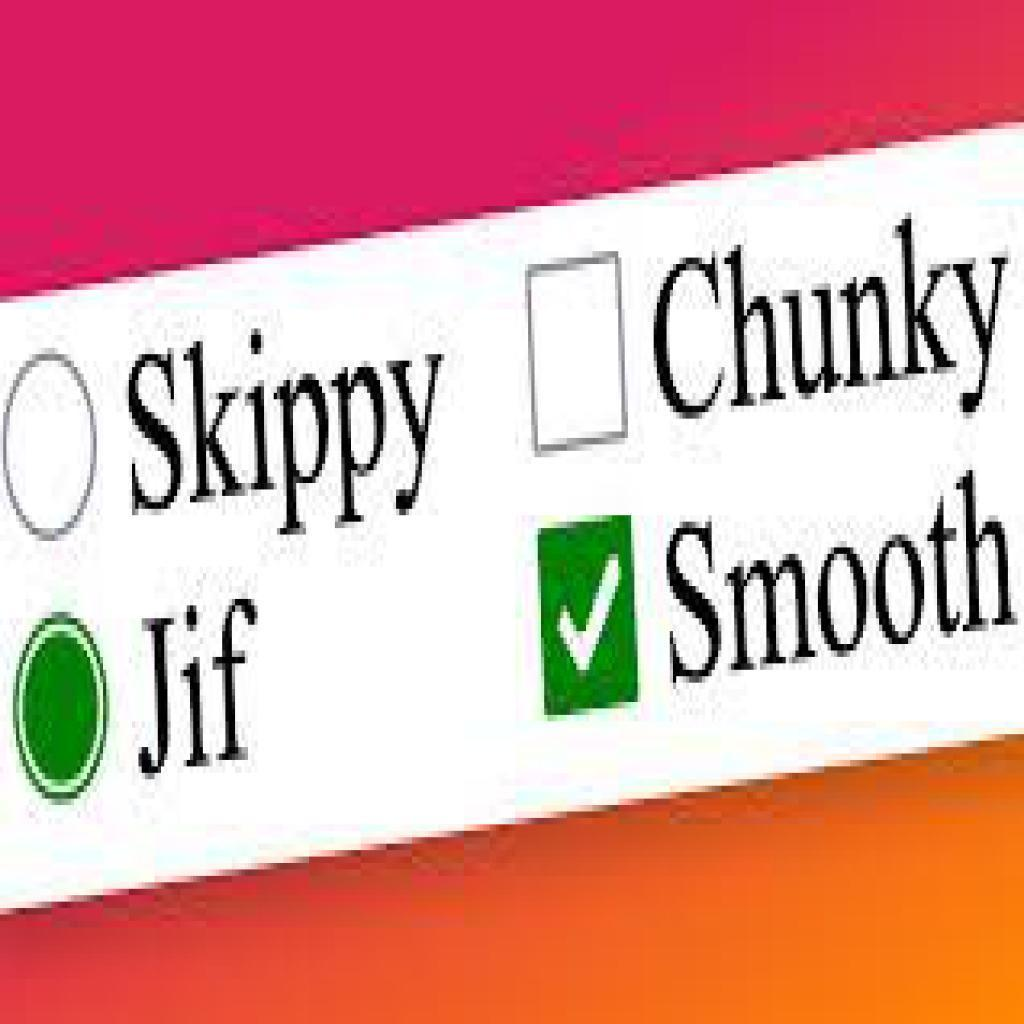checkbox: (537, 516, 642, 723), (526, 252, 630, 456)
radio: (10, 610, 111, 808), (3, 348, 98, 544)
